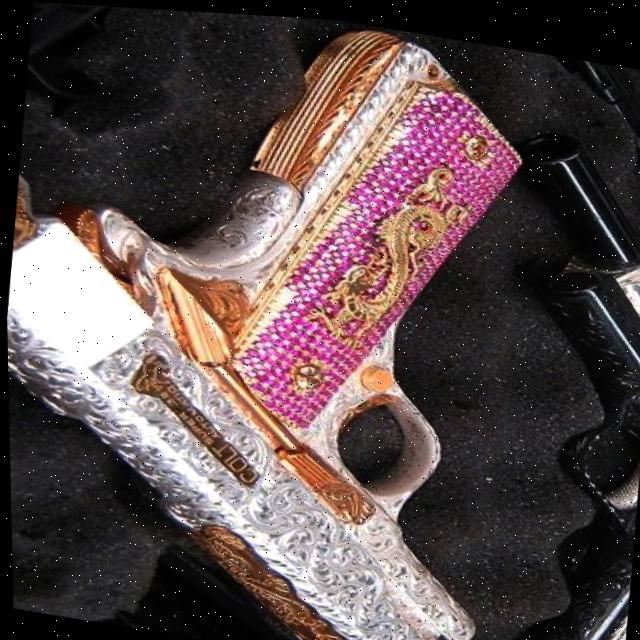pistol: (0, 0, 552, 640), (457, 113, 640, 640)
